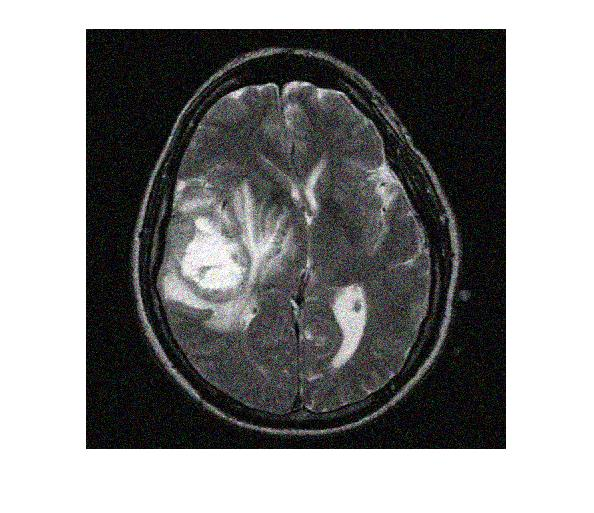Brain_Cancer: (180, 208, 256, 301)
